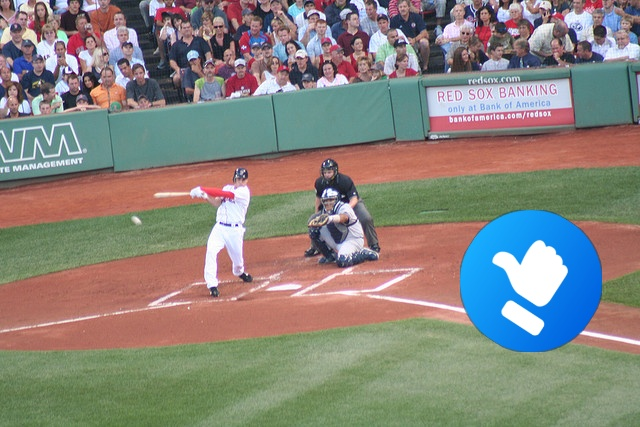like: (460, 210, 602, 352)
